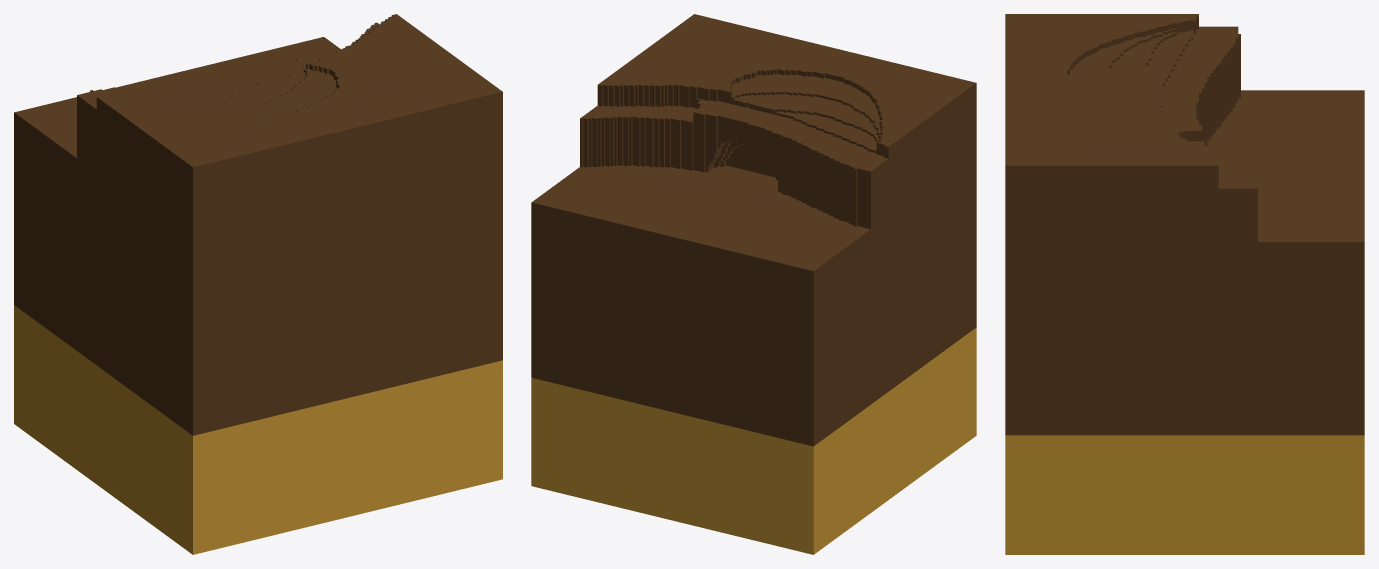
3 views of the same model, side by side, from view 1: azimuth 30°, elevation 25°; view 2: azimuth 150°, elevation 25°; view 3: azimuth 270°, elevation 25° (orthographic). The views are drawn at different scales.
Visible parts, largest first — view 1: 6P; view 2: 6P; view 3: 6P.
Boxes of the visible parts, x1,y1,x2,y2 form: 6P: (14,14,502,554); 6P: (531,14,976,554); 6P: (1005,14,1364,554).
Bounding box in the file's own units: 12.8 × 15.3 × 12.8.
1 material, 1 textured.
